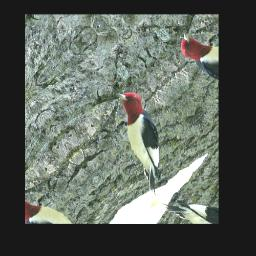Woodpecker: (82, 76, 198, 203)
